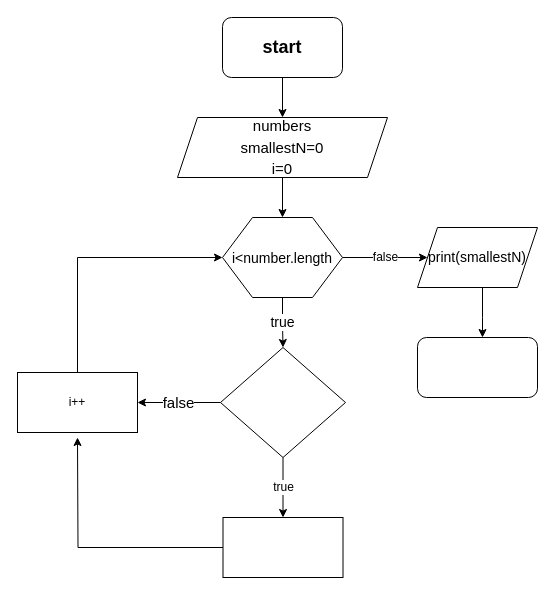
Image size: 555x595. Some labels were removed from this diagram. Here are the shapes that lost their labels. From the top down, the box of each, then its label:
(416, 336, 538, 398): end
(220, 346, 346, 458): smallestN<numbers(i)
(222, 516, 343, 578): smallestN=number(i)
